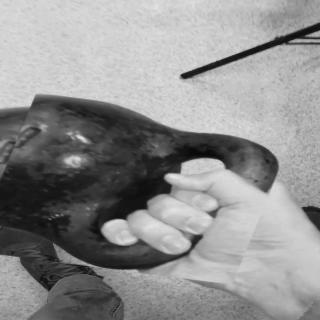kettlebell: (1, 101, 284, 278)
